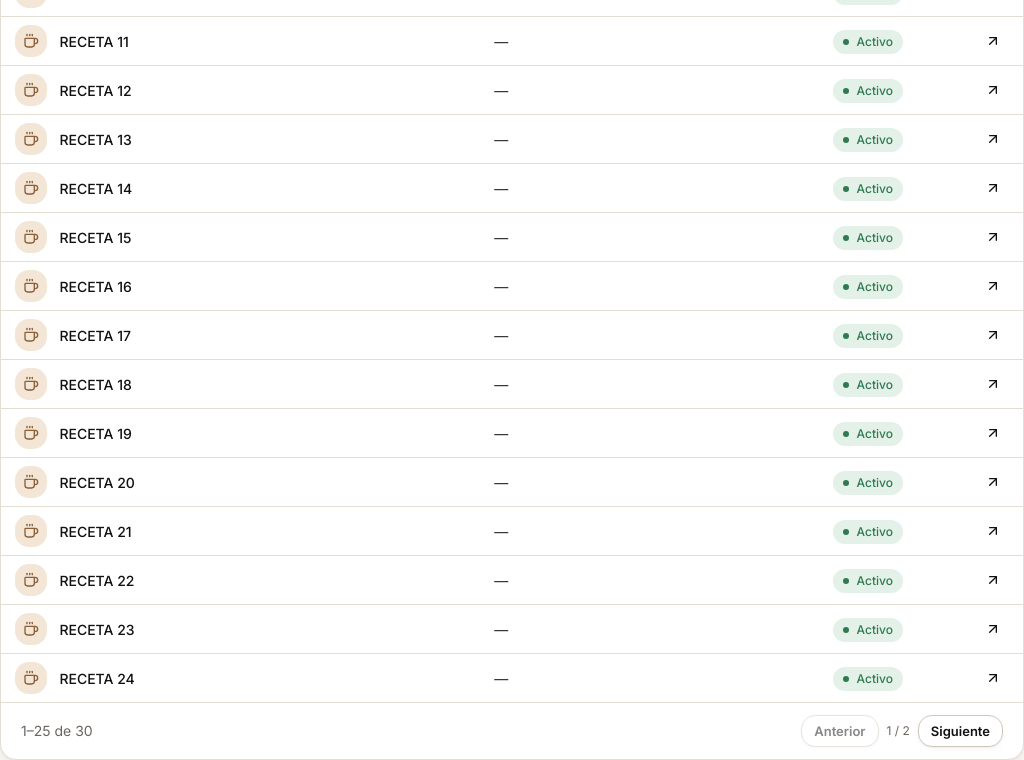
Test: pagina, filtra desde la segunda página y permite consultar a usuarios sin edición
(page scrolled)
Check: the message reads "1–25 de 30", box [21,722,93,739]
Click the button "Siguiente" at (960, 731), box [918,715,1003,747]
(page scrolled)
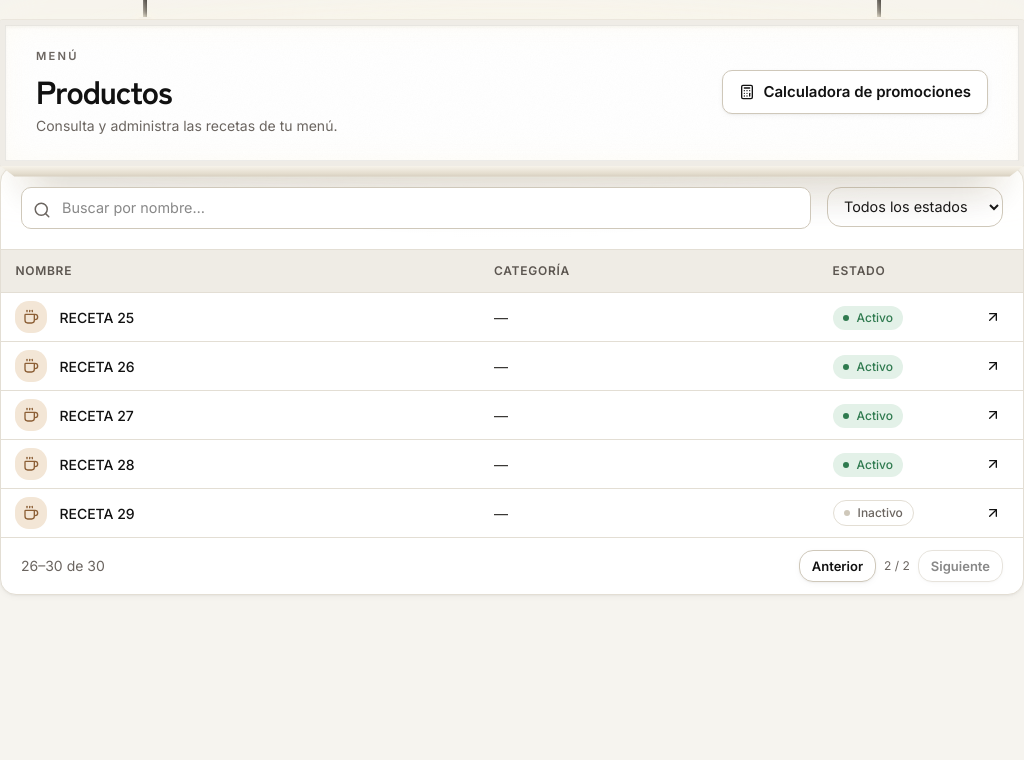
Type "Receta 0" into the search field labelled "Buscar por nombre" at (416, 208), box [21,187,811,229]
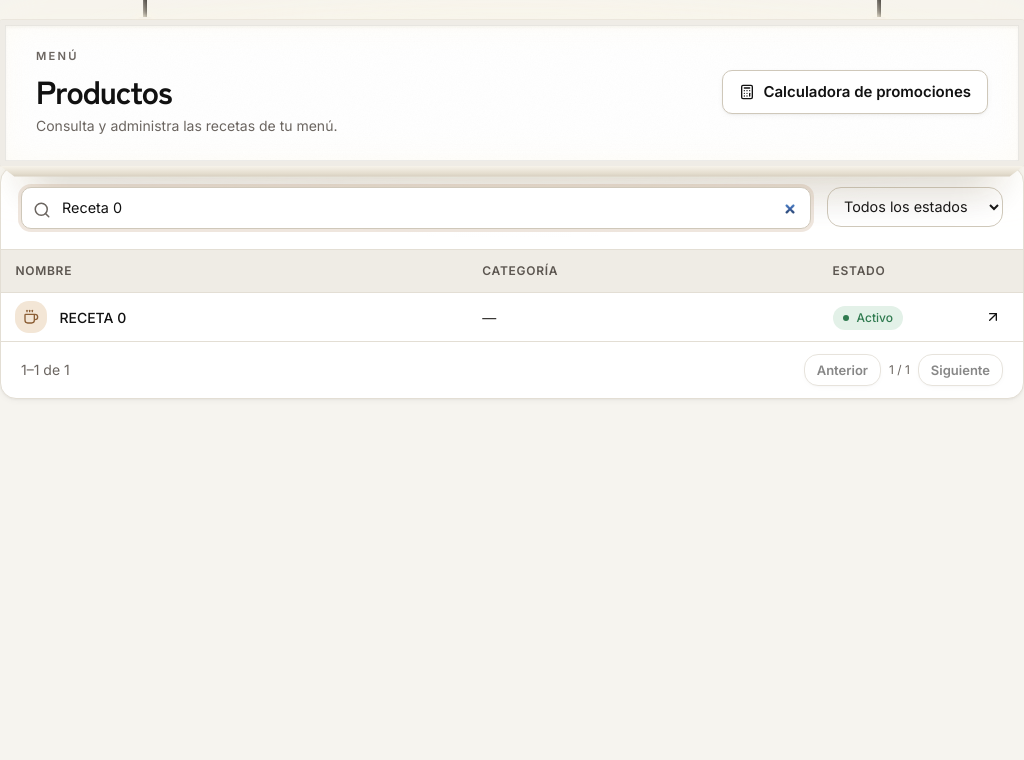
Check: the message reads "1–1 de 1", box [21,361,70,378]
Select "Inactivos" in the dropdown named "Estado" at (915, 207), box [827,187,1003,227]
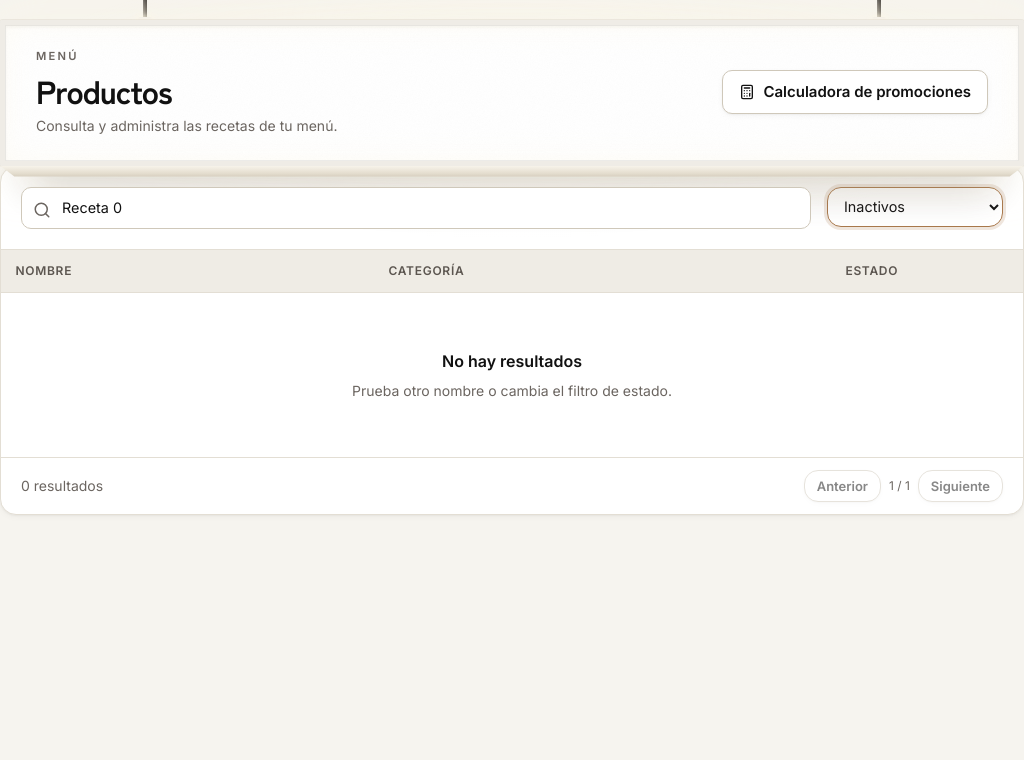
Check: the button "Siguiente" is disabled, box [918,470,1003,502]
Check: the text "No hay resultados" is shown, box [442,351,582,371]
